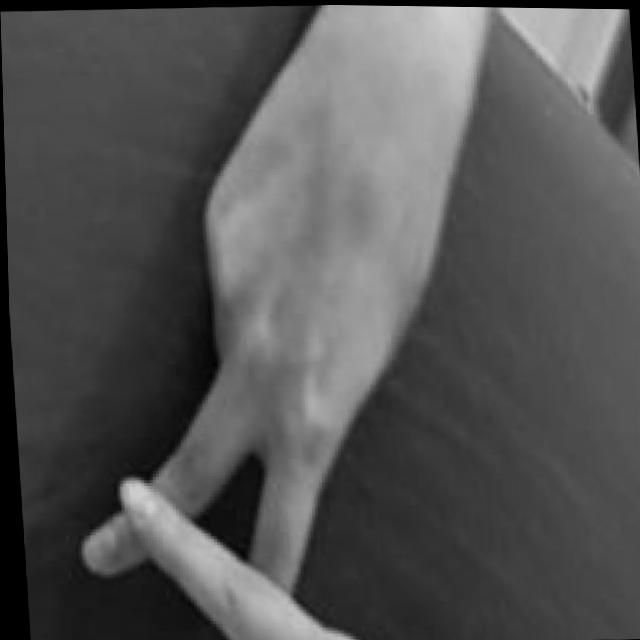A: (56, 188, 431, 640)
